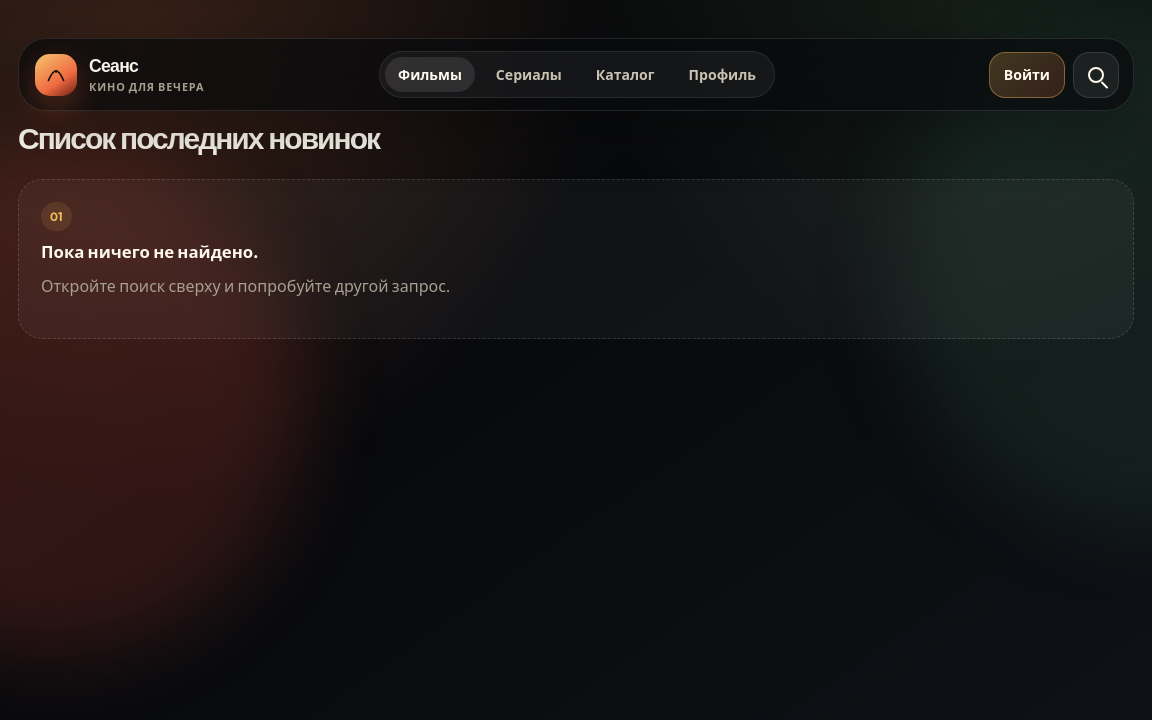
Test: App › renders top menu and keeps search collapsed until the icon is clicked
This screenshot has width=1152, height=720.
Expected: the button "Фильмы" is shown, [385,57,475,92]
Expected: the button "Сериалы" is shown, [483,57,575,92]
Click the button named "Открыть поиск" at (1096, 74), box [1073,52,1119,98]
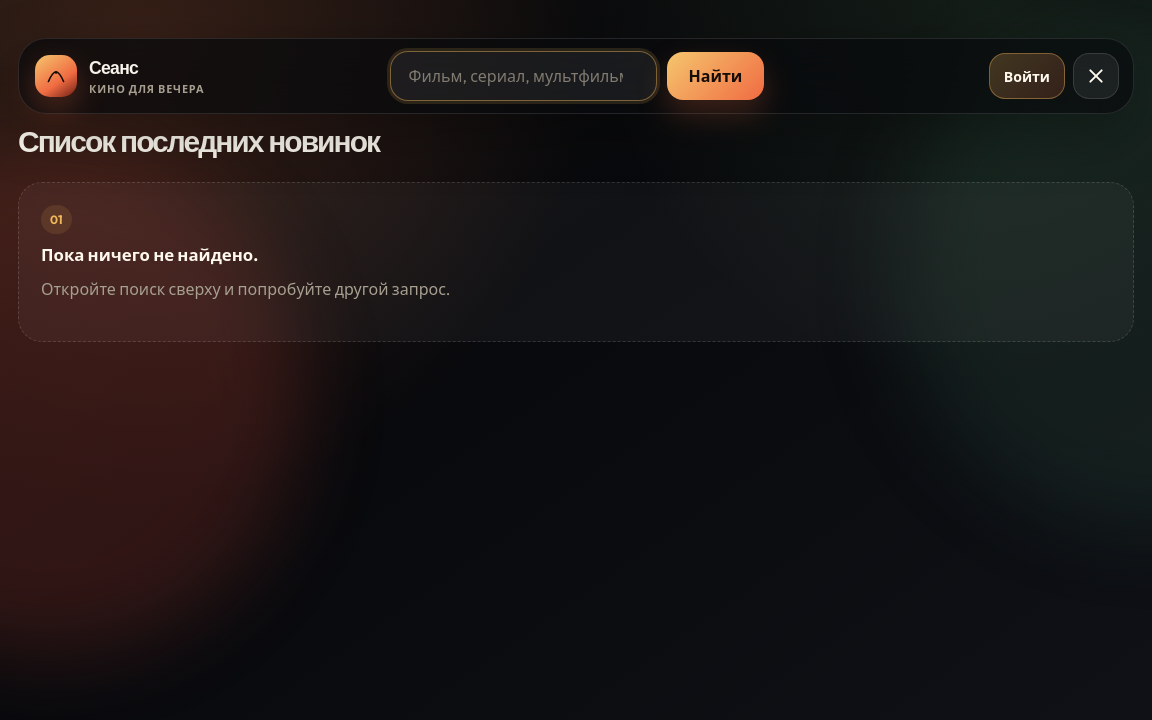
Now the button "Фильмы" is gone
Now the button "Сериалы" is gone
